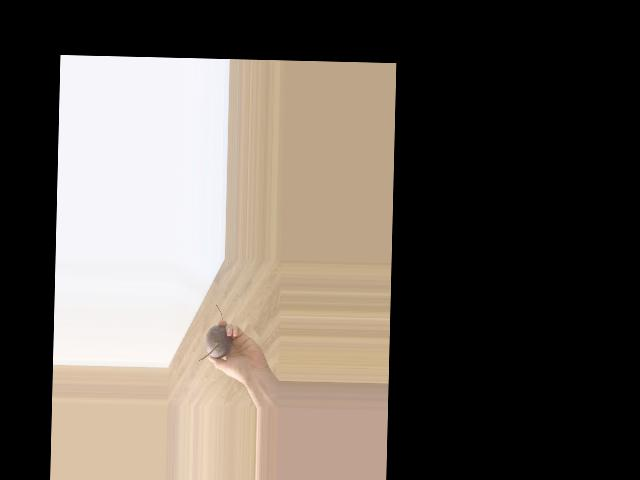beet: (199, 304, 232, 361)
